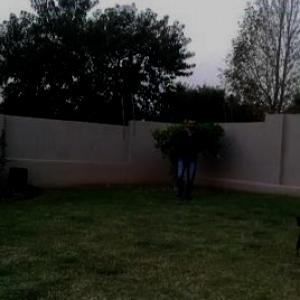land: (158, 106, 232, 206)
